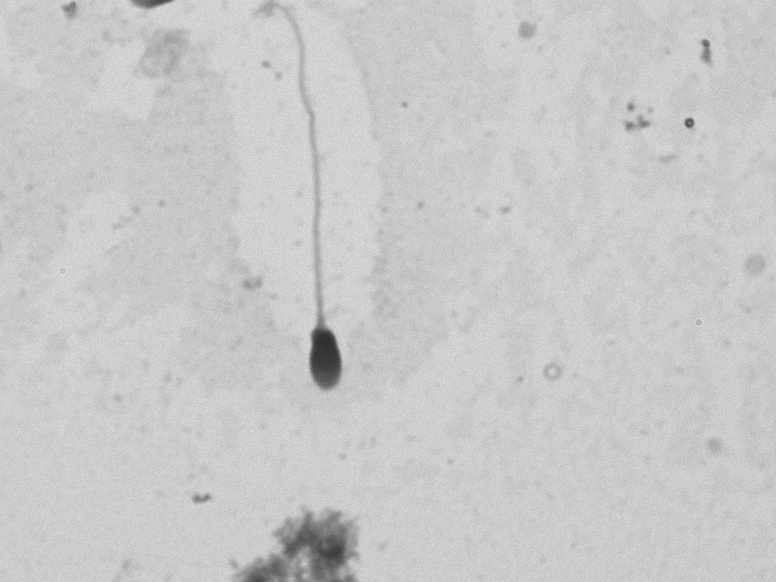Abnormal: (237, 14, 382, 413)
